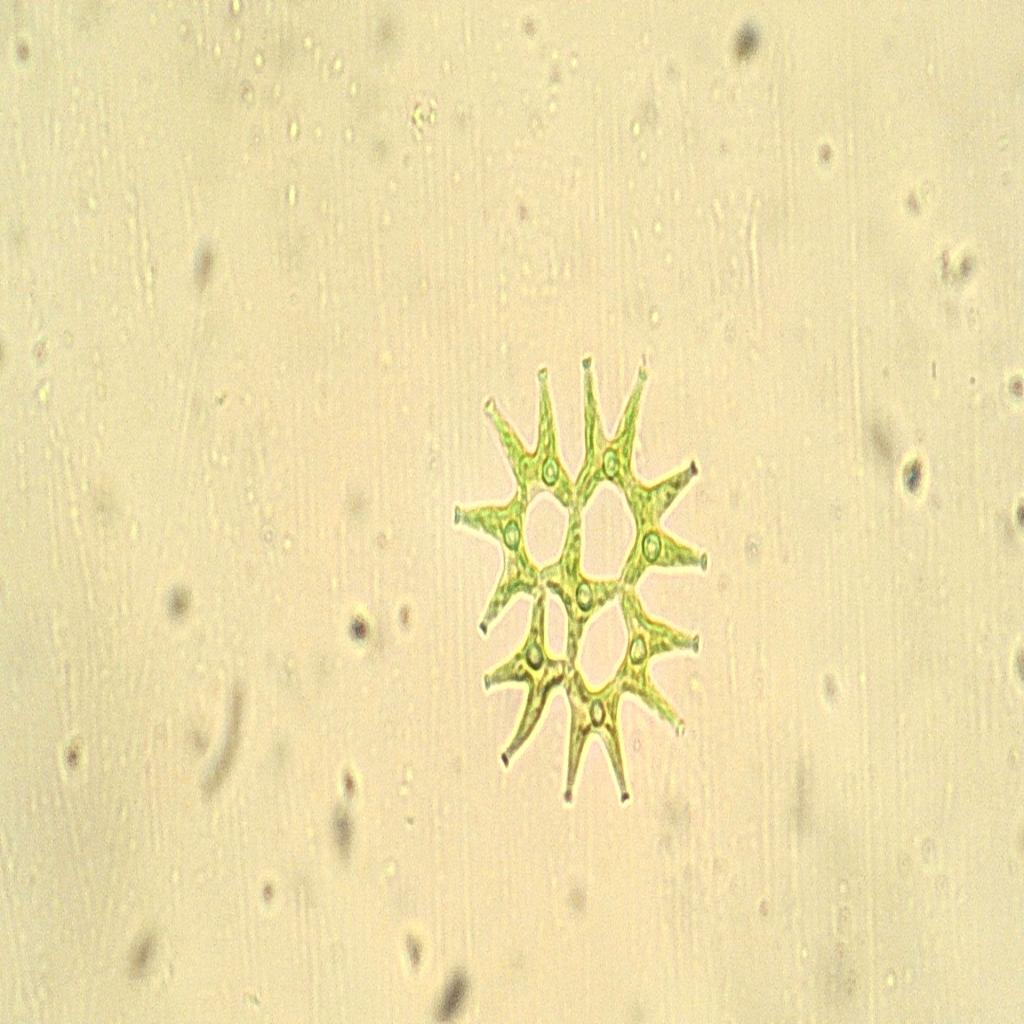Pediastrum_1T: (443, 317, 728, 843)
